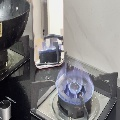fire: (56, 60, 94, 105)
